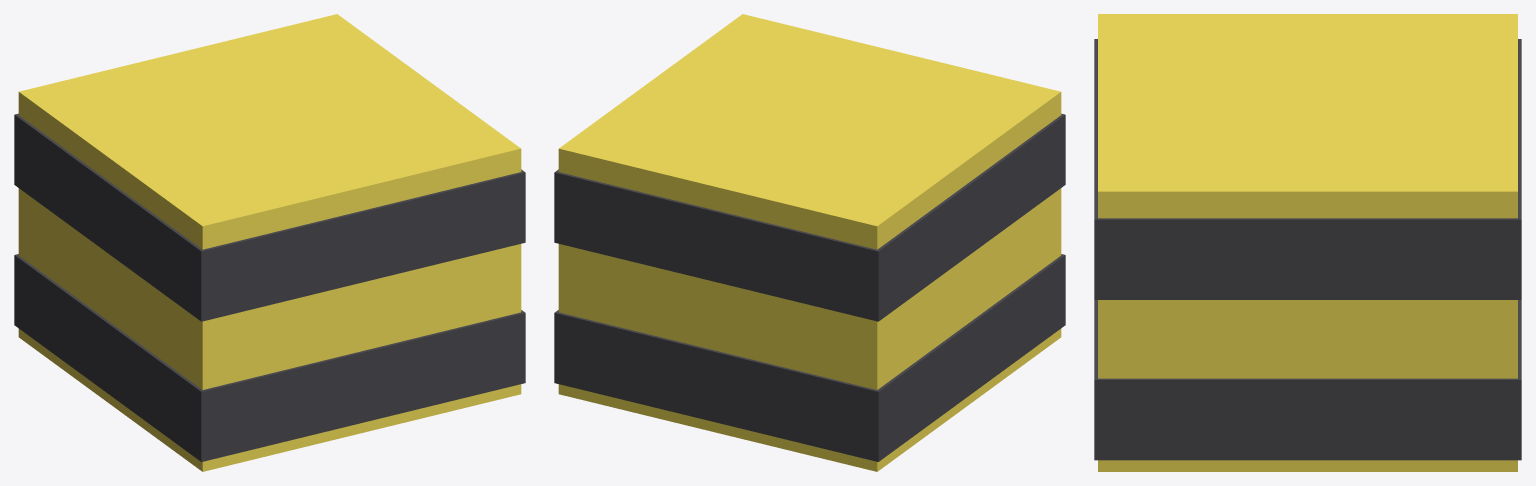
The model's file is abelha_manga_inf.glb.
The picture shows the model from 3 angles, left to right: view 1: azimuth 30°, elevation 25°; view 2: azimuth 150°, elevation 25°; view 3: azimuth 270°, elevation 25°; orthographic projection. The views are drawn at different scales.
Visible parts, largest first — view 1: abelha_manga_inf; view 2: abelha_manga_inf; view 3: abelha_manga_inf.
Part boxes in pixels (x1,y1,x2,y2): abelha_manga_inf: [14, 14, 525, 471]; abelha_manga_inf: [554, 14, 1065, 471]; abelha_manga_inf: [1094, 14, 1521, 471].
Size of the model in its own units: 0.29 by 0.21 by 0.29.
